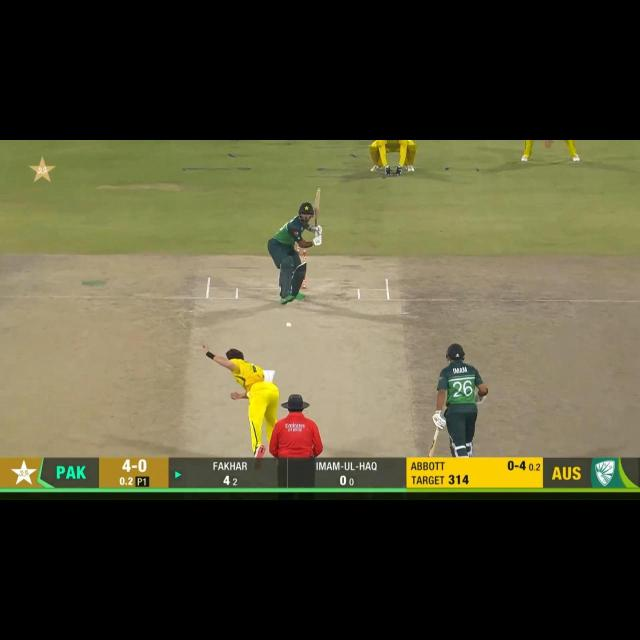bat: (313, 187, 322, 226), (428, 427, 438, 459)
toe: (316, 188, 322, 194)
